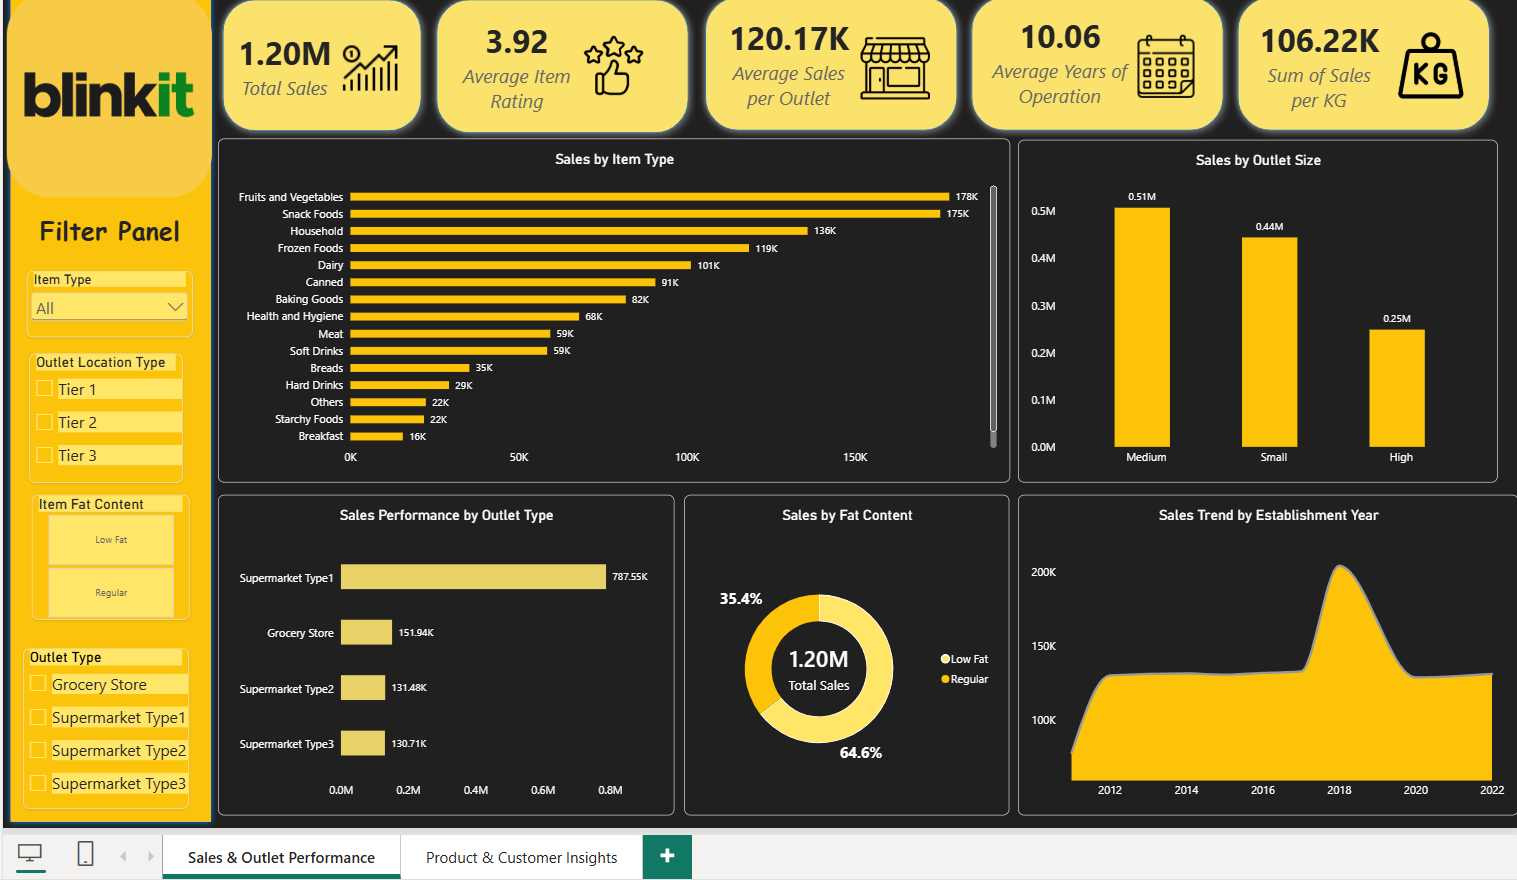

The page's visual inventory and layout, read from the dashboard file:
{"tool":"powerbi","page":{"name":"Sales & Outlet Performance","canvas":[1920,1080],"ordinal":0},"visuals":[{"type":"textbox","box":[1670,20,250,318],"z":0},{"type":"shape","box":[540,20,337.5,187.5],"z":1000},{"type":"shape","box":[1555,17.5,337.5,187.5],"z":2000},{"type":"shape","box":[1217.5,17.5,337.5,187.5],"z":3000},{"type":"shape","box":[880,17.5,337.5,187.5],"z":4000},{"type":"shape","box":[270,20,270,185],"z":5000},{"type":"shape","box":[1.4,0,270,1080],"z":6000},{"type":"image","box":[0,20,270,260],"z":7000},{"type":"cardVisual","fields":{"Data":["BlinkIT Grocery Data.Total Sales"]},"box":[270,62.5,175,105],"z":8000},{"type":"cardVisual","fields":{"Data":["BlinkIT Grocery Data.Average Item Rating"]},"box":[540,25,222.5,180],"z":9000},{"type":"cardVisual","fields":{"Data":["BlinkIT Grocery Data.Average Sales per Outlet"]},"box":[880,7.5,230,207.5],"z":10000},{"type":"cardVisual","fields":{"Data":["BlinkIT Grocery Data.Average Years of Operation"]},"box":[1217.5,25,242.5,167.5],"z":11000},{"type":"cardVisual","fields":{"Data":["Sum(BlinkIT Grocery Data.Sales per KG)"]},"box":[1562.5,42.5,212.5,142.5],"z":12000},{"type":"slicer","fields":{"Values":["Items.Item Type"]},"box":[30,374,210,84],"z":13000},{"type":"slicer","fields":{"Values":["Outlet Location.Outlet Location Type"]},"box":[34,478,194.3,164.3],"z":14000},{"type":"slicer","fields":{"Values":["Outlet Info.Outlet Type"]},"box":[26,852,210,202.9],"z":15000},{"type":"slicer","fields":{"Values":["Items Content.Item Fat Content"]},"box":[36,658,200,158.6],"z":16000},{"type":"textbox","box":[2,300,268,60],"z":17000},{"type":"barChart","title":"Sales by Item Type","fields":{"Category":["Items.Item Type"],"Y":["BlinkIT Grocery Data.Total Sales"]},"box":[272,206,1004,436],"z":18000},{"type":"donutChart","title":"Sales by Fat Content","fields":{"Category":["Items Content.Item Fat Content"],"Y":["BlinkIT Grocery Data.Total Sales"]},"box":[864,658,412,406],"z":19000},{"type":"barChart","title":"Sales Performance by Outlet Type","fields":{"Category":["Outlet Info.Outlet Type"],"Y":["BlinkIT Grocery Data.Total Sales"]},"box":[272,658,578,406],"z":20000},{"type":"clusteredColumnChart","title":"Sales by Outlet Size","fields":{"Category":["Outlet Info.Outlet Size"],"Y":["BlinkIT Grocery Data.Total Sales"]},"box":[1286,208,608,434],"z":21000},{"type":"lineChart","title":"Sales Trend by Establishment Year","fields":{"Category":["Outlet Info.Outlet Establishment Year"],"Y":["BlinkIT Grocery Data.Total Sales"]},"box":[1286,658,634,406],"z":22000},{"type":"image","box":[426,62,78,108],"z":23000},{"type":"image","box":[720,72,106,84],"z":24000},{"type":"image","box":[1410,74,128,80],"z":25000},{"type":"image","box":[1086,58,88,116],"z":26000},{"type":"image","box":[1724,72,172,84],"z":27000}]}

Visuals, with their boxes on the page's 1920x1080 design canvas (x1, y1, x2, y2). These are canvas units, not pixel positions in the 1517x880 screenshot, which may show the page scaled, cropped or inside an application window:
textbox: (x1=1670, y1=20, x2=1920, y2=338)
shape: (x1=540, y1=20, x2=878, y2=208)
shape: (x1=1555, y1=18, x2=1892, y2=205)
shape: (x1=1218, y1=18, x2=1555, y2=205)
shape: (x1=880, y1=18, x2=1218, y2=205)
shape: (x1=270, y1=20, x2=540, y2=205)
shape: (x1=1, y1=0, x2=271, y2=1080)
image: (x1=0, y1=20, x2=270, y2=280)
cardVisual - BlinkIT Grocery Data.Total Sales: (x1=270, y1=62, x2=445, y2=168)
cardVisual - BlinkIT Grocery Data.Average Item Rating: (x1=540, y1=25, x2=762, y2=205)
cardVisual - BlinkIT Grocery Data.Average Sales per Outlet: (x1=880, y1=8, x2=1110, y2=215)
cardVisual - BlinkIT Grocery Data.Average Years of Operation: (x1=1218, y1=25, x2=1460, y2=192)
cardVisual - Sum(BlinkIT Grocery Data.Sales per KG): (x1=1562, y1=42, x2=1775, y2=185)
slicer - Items.Item Type: (x1=30, y1=374, x2=240, y2=458)
slicer - Outlet Location.Outlet Location Type: (x1=34, y1=478, x2=228, y2=642)
slicer - Outlet Info.Outlet Type: (x1=26, y1=852, x2=236, y2=1055)
slicer - Items Content.Item Fat Content: (x1=36, y1=658, x2=236, y2=817)
textbox: (x1=2, y1=300, x2=270, y2=360)
"Sales by Item Type" barChart: (x1=272, y1=206, x2=1276, y2=642)
"Sales by Fat Content" donutChart: (x1=864, y1=658, x2=1276, y2=1064)
"Sales Performance by Outlet Type" barChart: (x1=272, y1=658, x2=850, y2=1064)
"Sales by Outlet Size" clusteredColumnChart: (x1=1286, y1=208, x2=1894, y2=642)
"Sales Trend by Establishment Year" lineChart: (x1=1286, y1=658, x2=1920, y2=1064)
image: (x1=426, y1=62, x2=504, y2=170)
image: (x1=720, y1=72, x2=826, y2=156)
image: (x1=1410, y1=74, x2=1538, y2=154)
image: (x1=1086, y1=58, x2=1174, y2=174)
image: (x1=1724, y1=72, x2=1896, y2=156)
